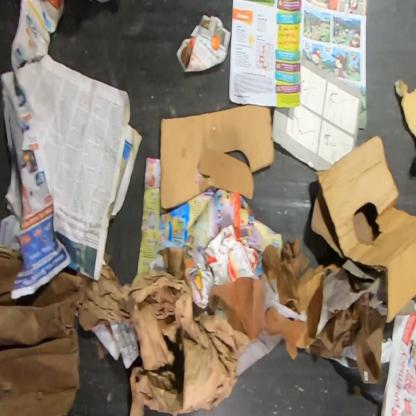cardboard: (314, 134, 415, 326), (0, 245, 93, 415), (159, 104, 276, 210), (310, 186, 347, 260), (393, 77, 416, 140)
